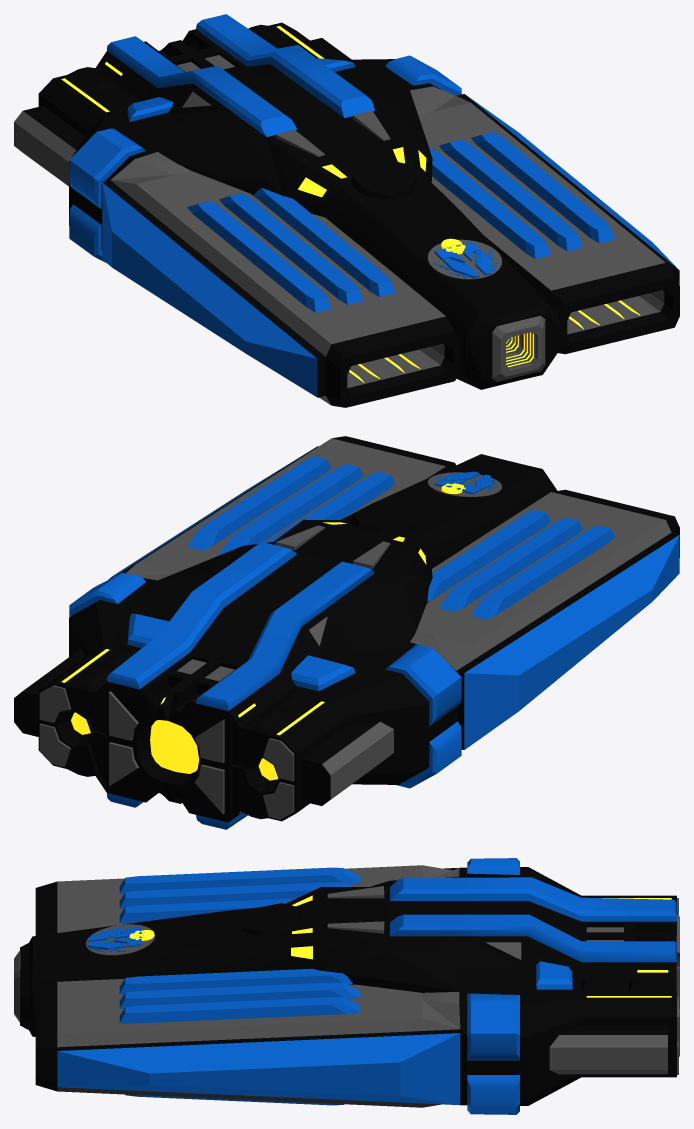
File: 666_ship_heavy_cardinal.glb
3 renders of one model, top to bottom at view 1: azimuth 30°, elevation 25°; view 2: azimuth 150°, elevation 25°; view 3: azimuth 270°, elevation 25°, orthographic. The views are drawn at different scales.
Parts seen in each view (by area): view 1: 66_ship_heavy_cardinal; view 2: 66_ship_heavy_cardinal; view 3: 66_ship_heavy_cardinal.
Boxes of the visible parts, left/top/right/bottom form: 66_ship_heavy_cardinal: left=14, top=14, right=679, bottom=407; 66_ship_heavy_cardinal: left=14, top=436, right=679, bottom=829; 66_ship_heavy_cardinal: left=14, top=858, right=679, bottom=1114.
Size of the model in its own units: 0.6595 by 0.2812 by 1.
